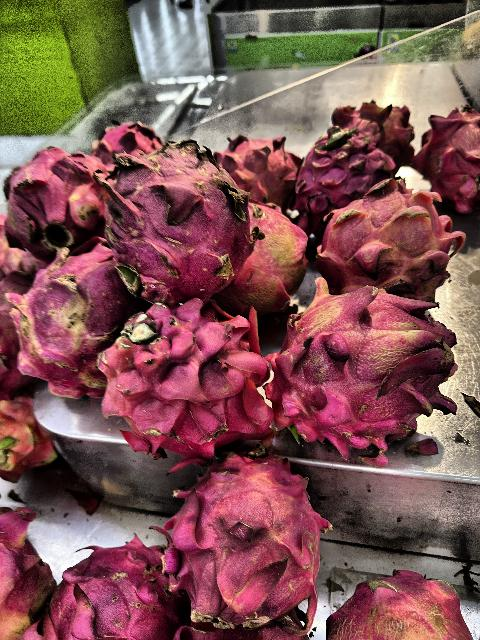buah-naga-belum-matang: (274, 270, 458, 454), (313, 186, 457, 300), (6, 242, 122, 376), (318, 558, 466, 640), (234, 195, 316, 297), (1, 508, 54, 640)
buah-naga-matang: (171, 440, 325, 612), (92, 302, 272, 446), (98, 140, 250, 288), (41, 538, 187, 640), (0, 141, 108, 247), (289, 131, 395, 215), (220, 128, 310, 212), (328, 98, 434, 164), (416, 107, 480, 211), (93, 115, 165, 163)
